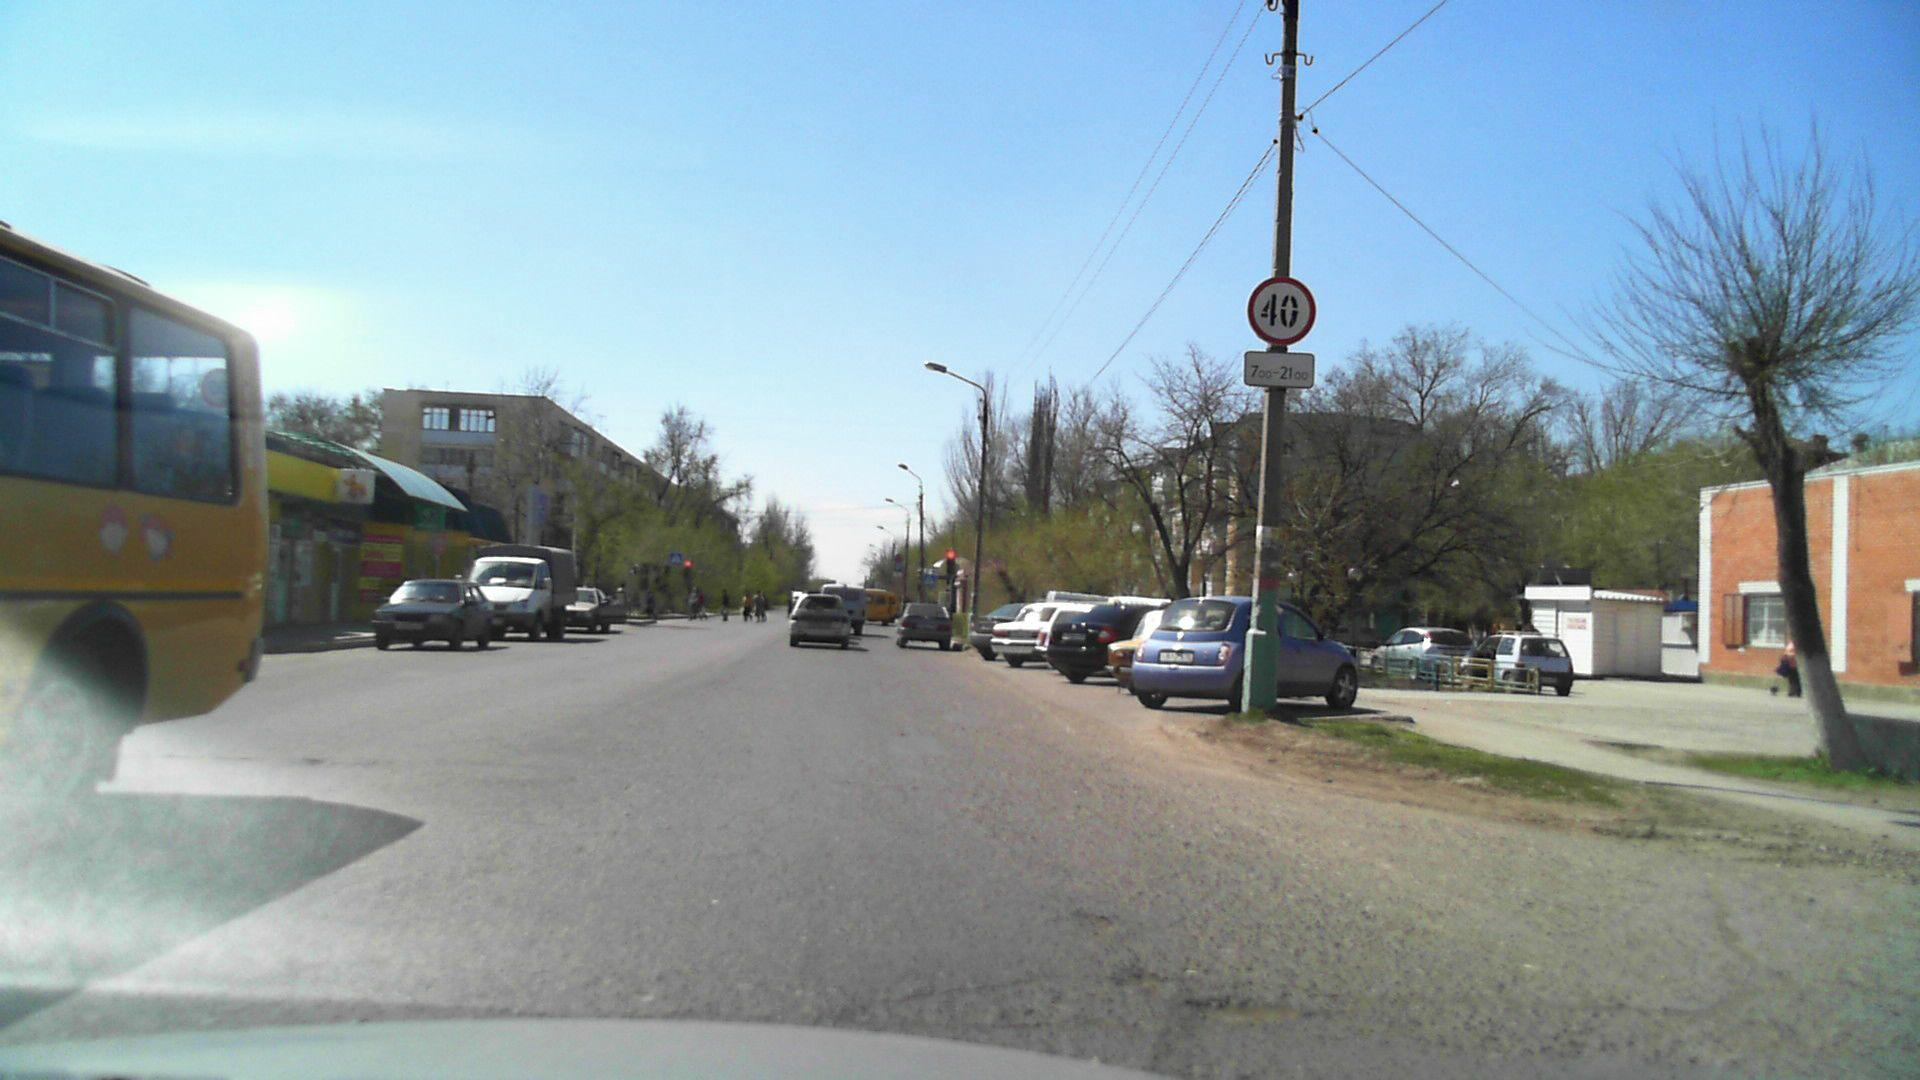3_24: (1245, 276, 1316, 343)
3_27: (894, 554, 903, 562)
5_19_1: (923, 576, 938, 585)
5_19_2: (670, 551, 683, 566)
6_4: (894, 562, 902, 572)
8_1_1: (893, 571, 903, 578)
8_5_4: (1244, 345, 1316, 388)
